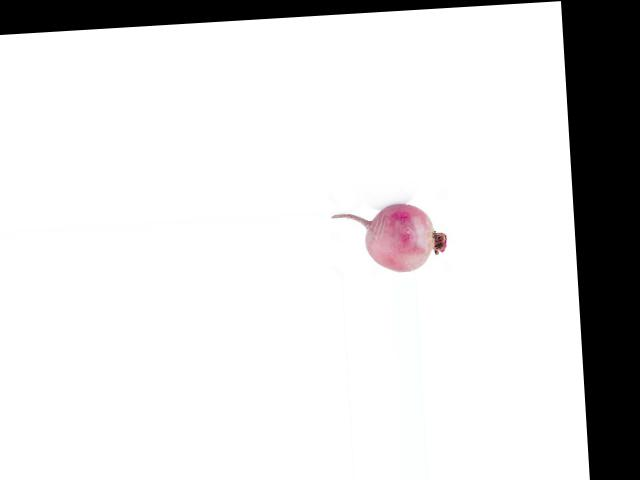beet: (331, 201, 448, 275)
